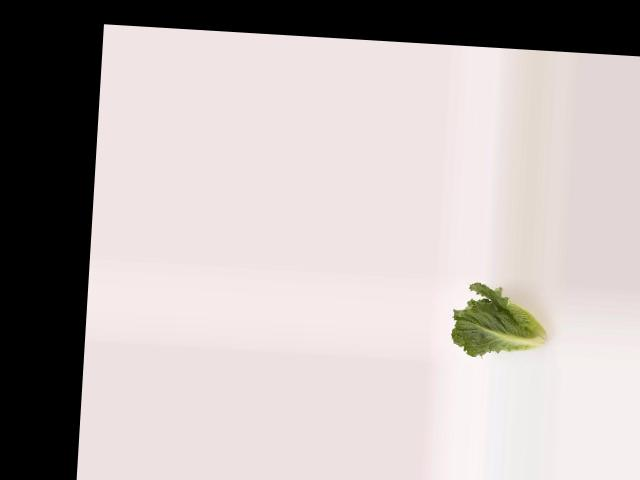lettuce: (447, 284, 560, 363)
